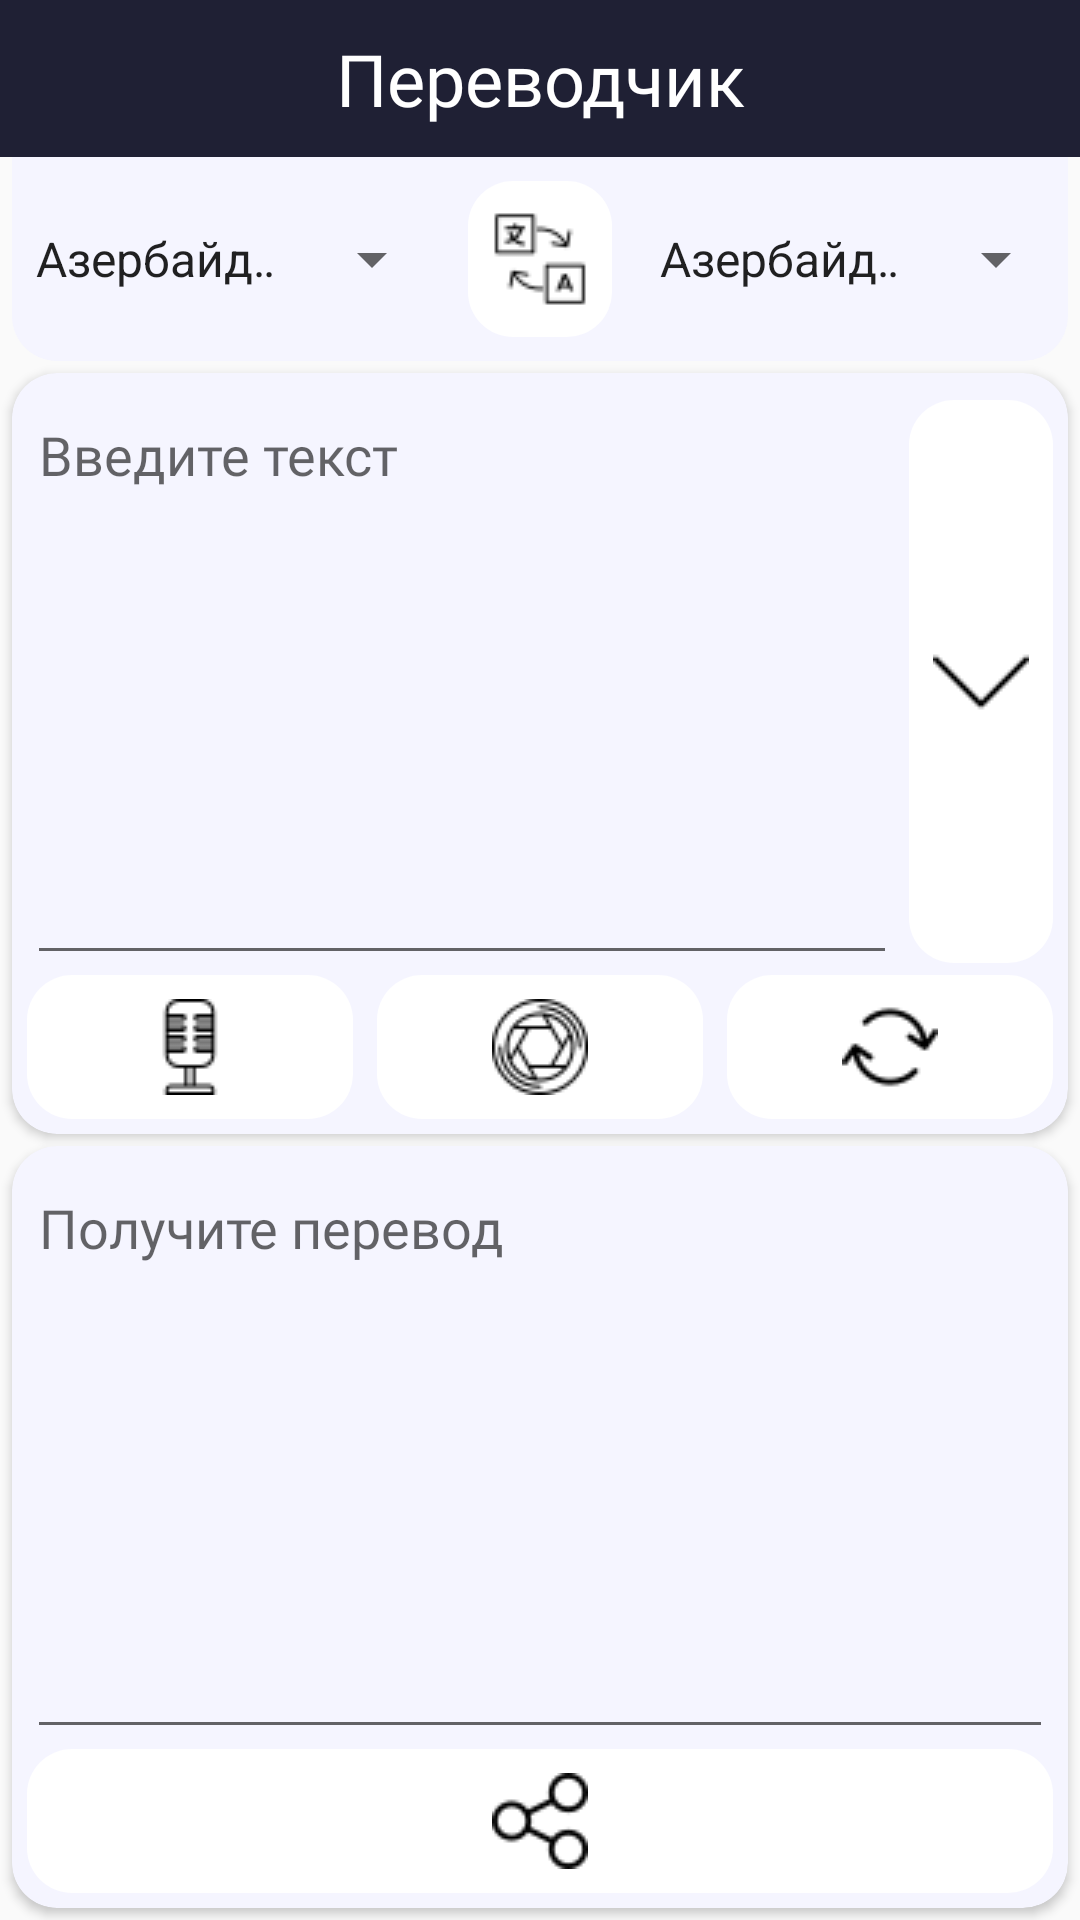

Icons on this 1080 x 1920 Android screen, each with the point to tap as (x=x, y=y):
arrows: (x=890, y=1047)
change lang: (x=540, y=259)
microphone: (x=190, y=1047)
photo: (x=540, y=1047)
